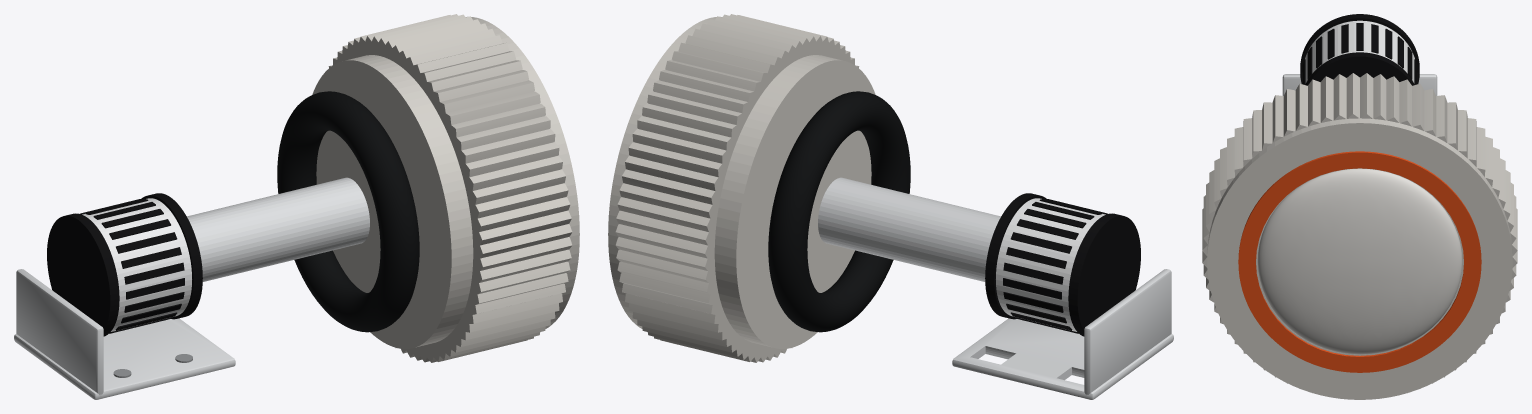
The model's file is part_crown_asm.glb.
3 renders of one model, left to right at view 1: azimuth 30°, elevation 25°; view 2: azimuth 150°, elevation 25°; view 3: azimuth 270°, elevation 25°, orthographic. The views are drawn at different scales.
Visible parts, largest first — view 1: part_crown_asm, crown_encoder, crown_gasket, crown_bracket, crown_stem; view 2: part_crown_asm, crown_encoder, crown_gasket, crown_bracket, crown_stem; view 3: part_crown_asm, crown_encoder, crown_bracket.
Part boxes in pixels (<box>): part_crown_asm: <box>312,14,579,362</box>; crown_encoder: <box>47,193,202,336</box>; crown_gasket: <box>277,91,419,332</box>; crown_bracket: <box>14,269,235,399</box>; crown_stem: <box>187,177,369,281</box>; part_crown_asm: <box>608,14,875,362</box>; crown_encoder: <box>985,193,1140,336</box>; crown_gasket: <box>768,91,910,332</box>; crown_bracket: <box>952,269,1173,399</box>; crown_stem: <box>818,177,1000,281</box>; part_crown_asm: <box>1202,73,1517,399</box>; crown_encoder: <box>1300,14,1419,85</box>; crown_bracket: <box>1282,74,1437,95</box>.
Size of the model in its own units: 0.015 by 0.00939 by 0.00939.
